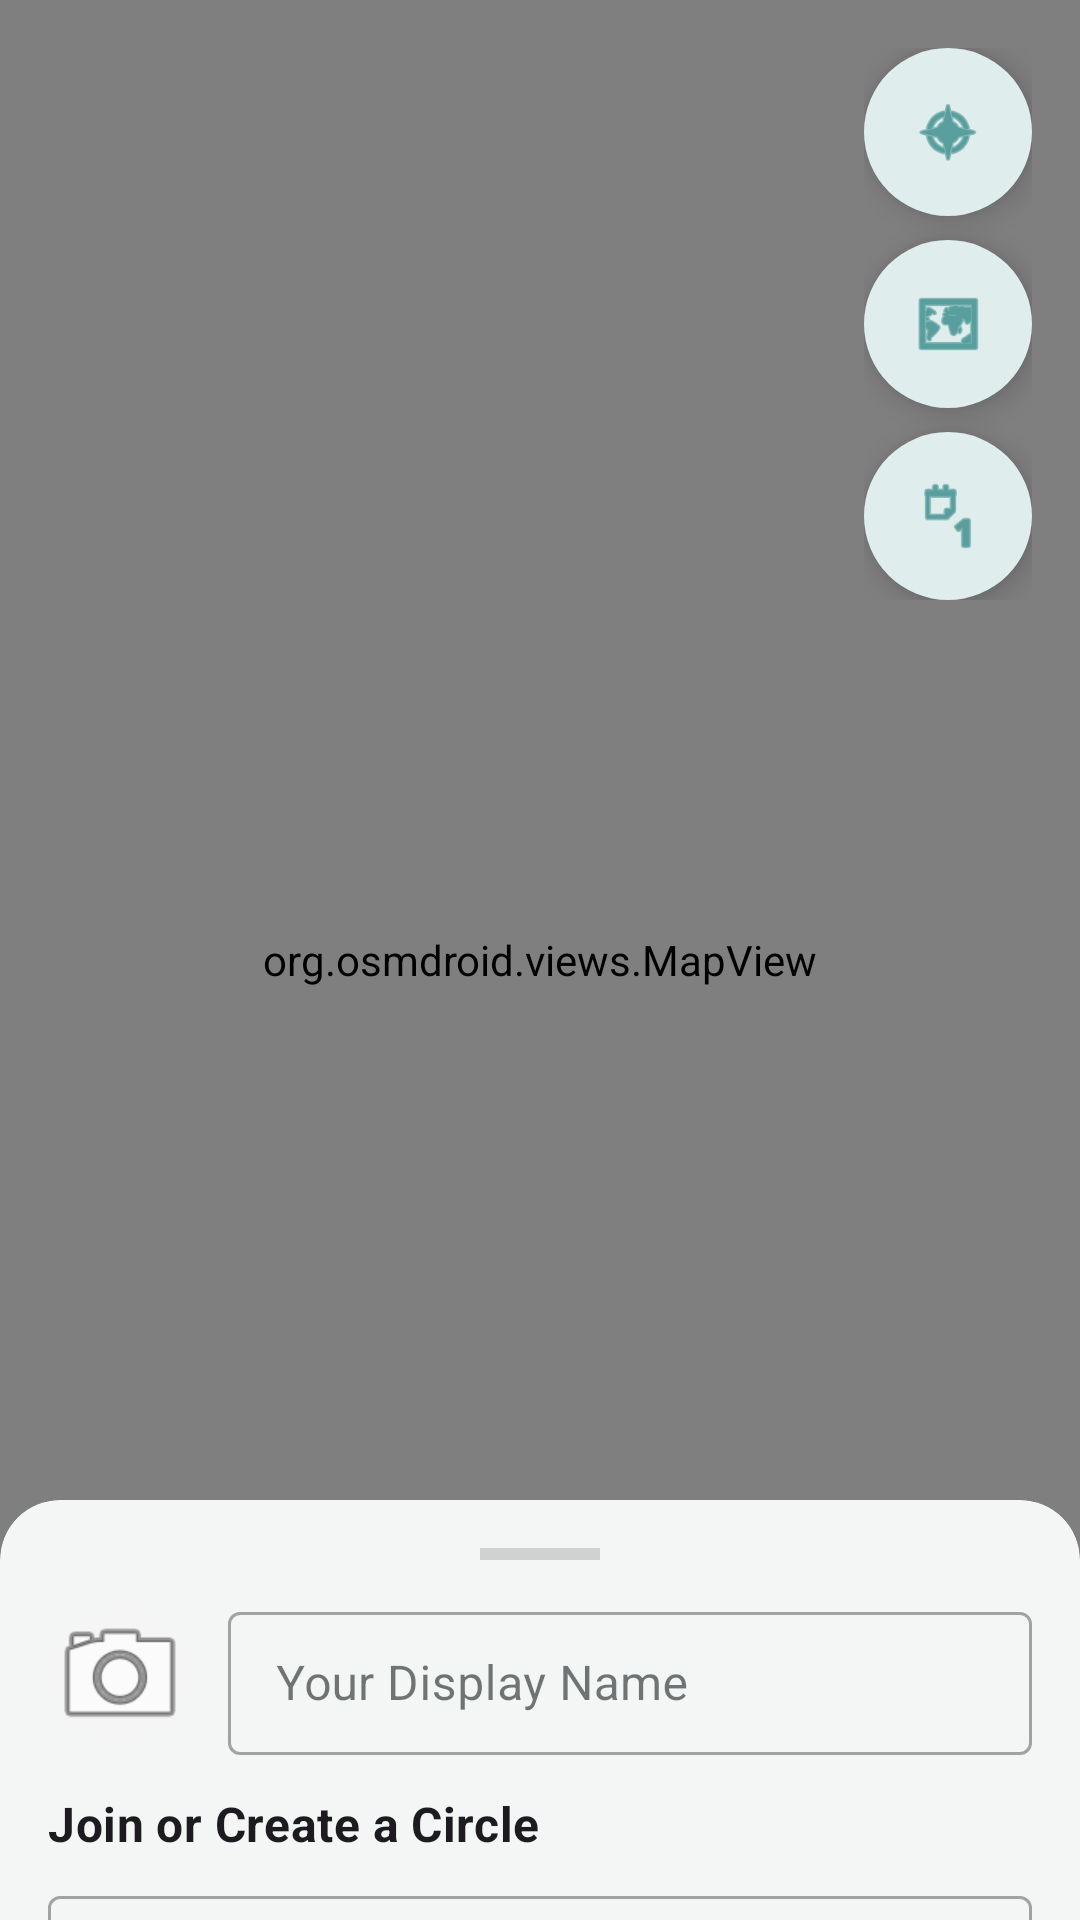

Icon click points for this 1080w x 1920h phone screenshot, format [x,y]:
camera: [120,1672]
Center on me: [948,132]
Toggle Satellite: [948,324]
